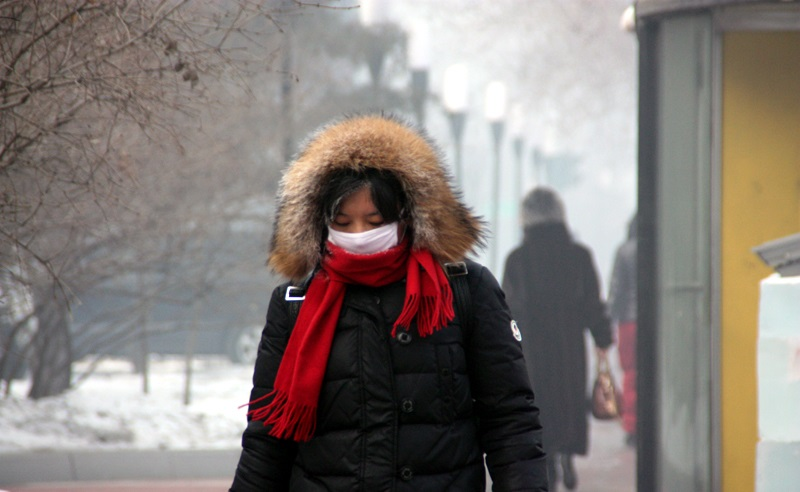face_mask: (327, 179, 402, 269)
